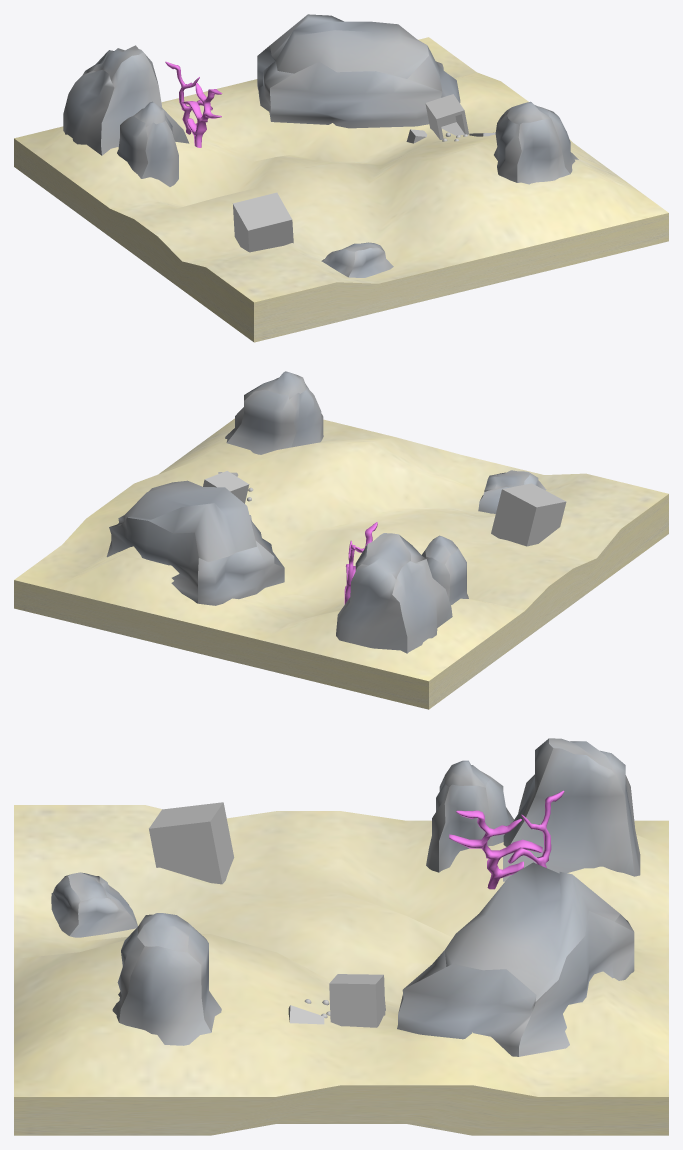
Rendered from stage1.FBX.
3 views of the same model, one above another, from view 1: azimuth 30°, elevation 25°; view 2: azimuth 150°, elevation 25°; view 3: azimuth 270°, elevation 25° (orthographic). The views are drawn at different scales.
Parts seen in each view (by area): view 1: Box001, Box005, Box002, Box004, Box003, Box009, Box006, Box012, Box007, Box008; view 2: Box001, Box005, Box002, Box004, Box009, Box003, Box006, Box012; view 3: Box001, Box005, Box002, Box004, Box009, Box003, Box006, Box012, Box007, Box008.
Part boxes in pixels (x1,y1,x2,y2): Box001: (14,37,668,342); Box005: (257,14,460,128); Box002: (63,45,189,155); Box004: (494,101,578,184); Box003: (117,101,178,186); Box009: (233,192,293,252); Box006: (321,242,393,277); Box012: (425,94,468,139); Box007: (182,83,222,147); Box008: (165,61,212,134); Box001: (14,418,668,709); Box005: (106,480,284,605); Box002: (336,533,452,653); Box004: (225,371,323,454); Box009: (491,483,566,546); Box003: (422,535,468,604); Box006: (478,470,546,513); Box012: (203,471,249,503); Box001: (14,805,668,1135); Box005: (397,862,634,1056); Box002: (503,738,640,881); Box004: (112,913,221,1045); Box009: (149,802,234,884); Box003: (426,760,513,872); Box006: (51,872,137,937); Box012: (329,974,385,1027); Box007: (449,810,542,889); Box008: (508,790,564,867).
Size of what is drawn, in the model's own units: 136 by 136 by 39.06.
